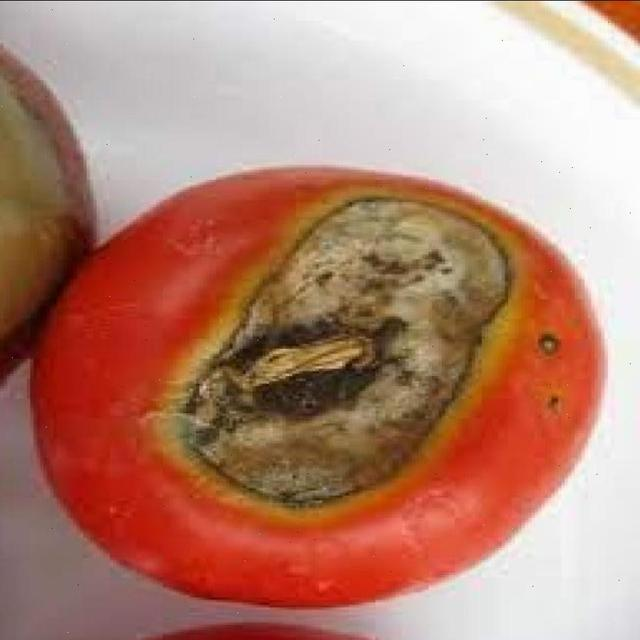Blossom End Rot Fruit: (15, 21, 371, 264)
